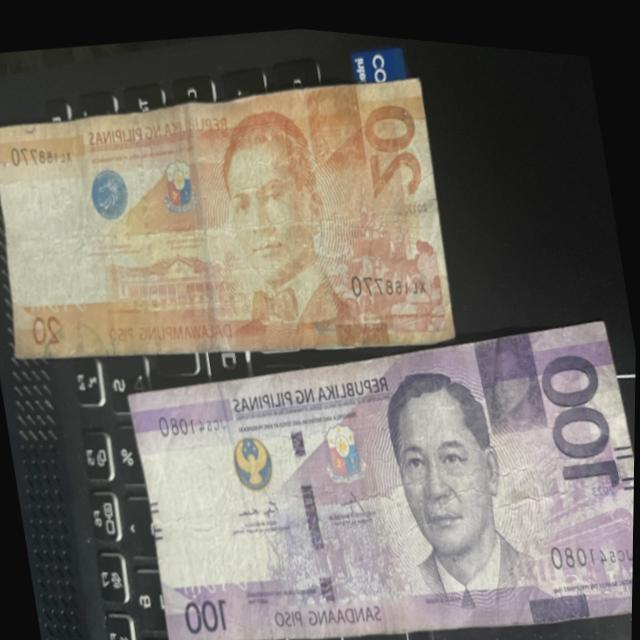concealed_value: (469, 319, 553, 437), (297, 73, 371, 180)
security_thread: (273, 363, 349, 634)
serial_number: (537, 500, 635, 572), (338, 247, 437, 306), (148, 392, 238, 450), (0, 122, 79, 184)
value: (532, 325, 632, 490), (352, 82, 435, 201)
